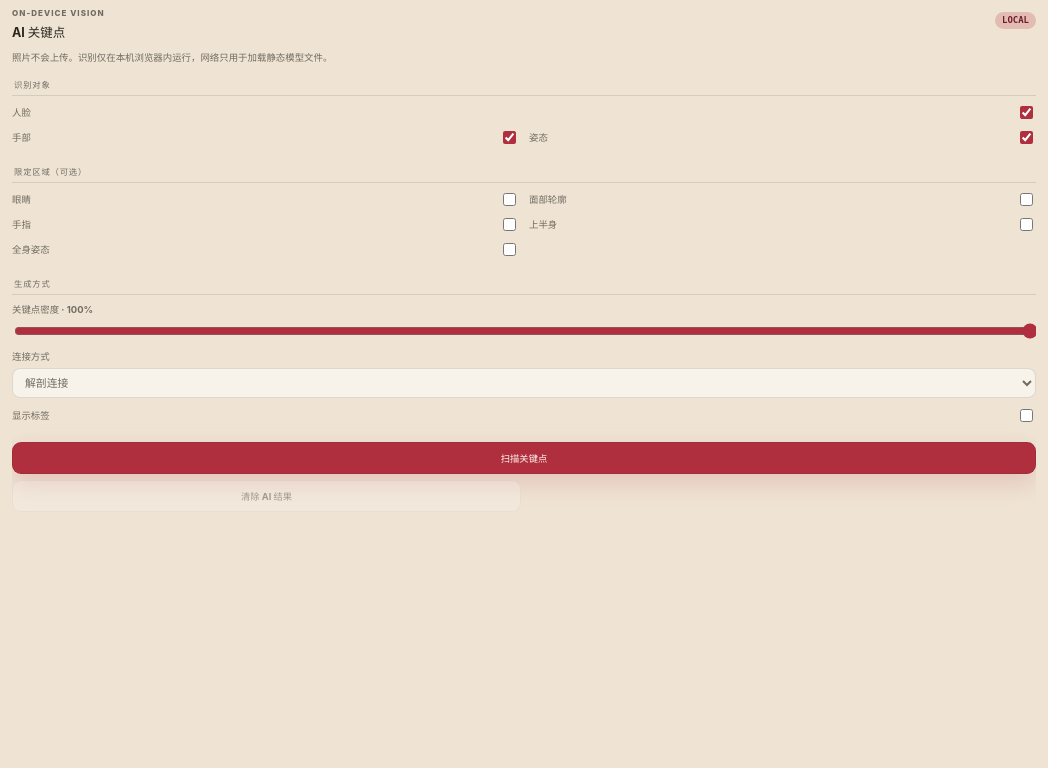
Scenario: AI scan panel › lets the user cancel a loading scan and retry successfully
Click the button "扫描关键点".
click(524, 458)  # box [12, 442, 1036, 474]
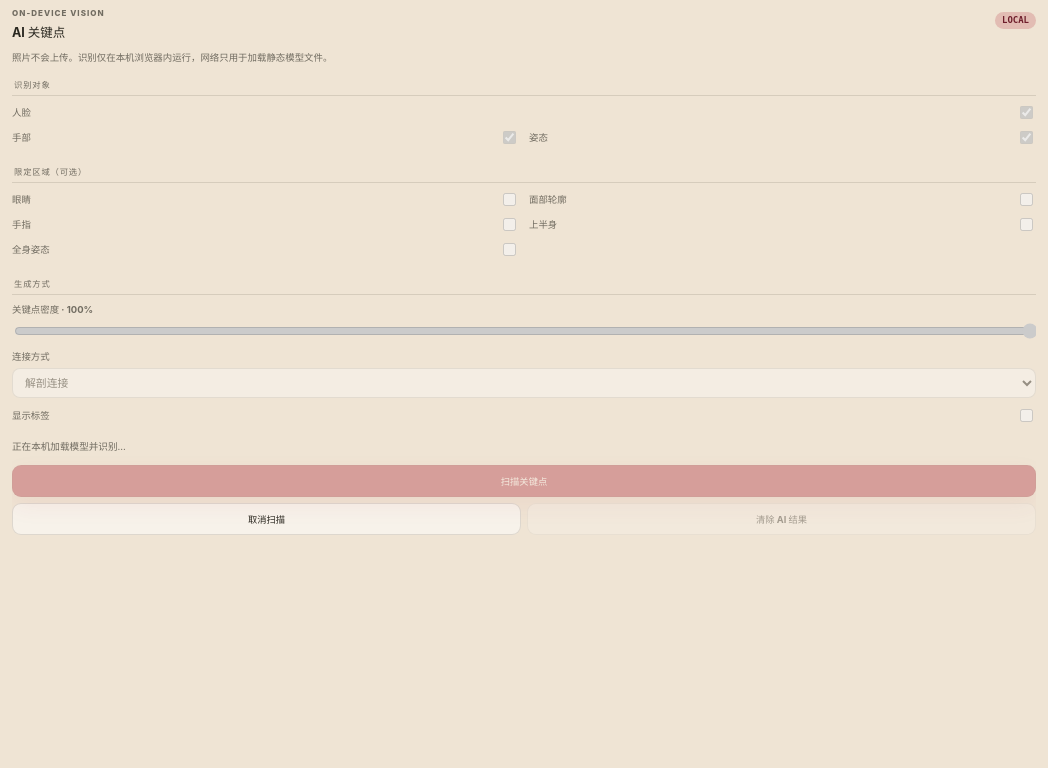
Now the button "取消扫描" is enabled
Click the button "取消扫描".
click(266, 519)  # box [12, 503, 521, 535]
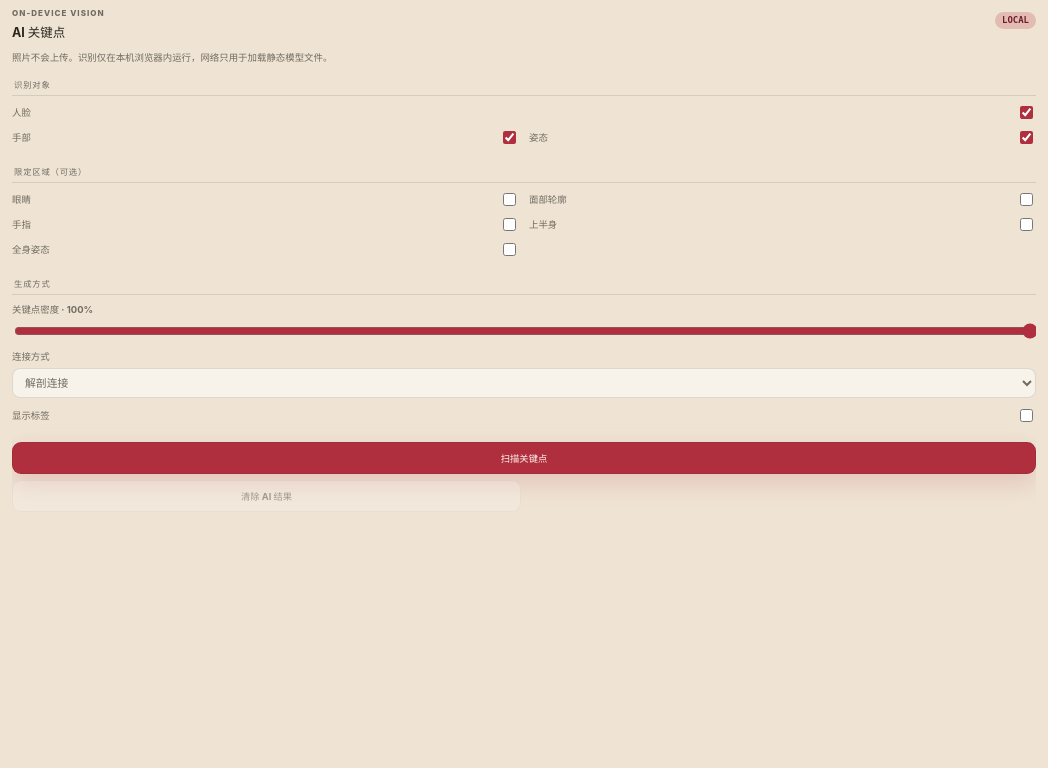
Now the text "正在本机加载" is gone
Now the button "扫描关键点" is enabled
Click the button "扫描关键点".
click(524, 458)  # box [12, 442, 1036, 474]
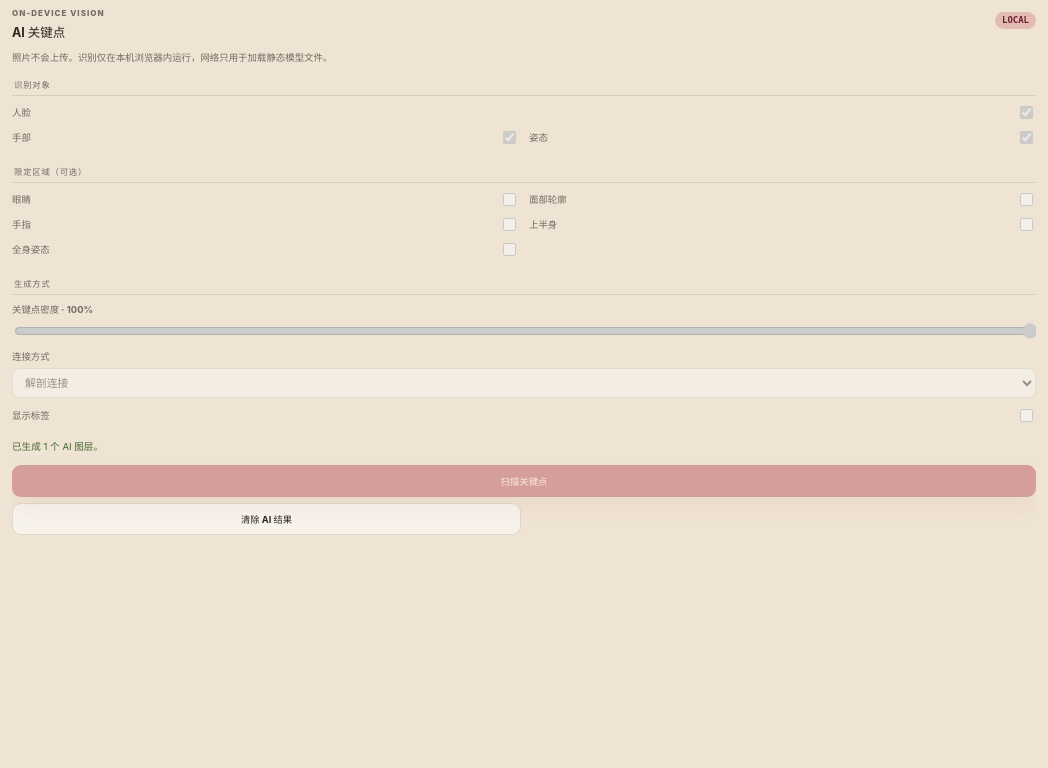
Now the text "已生成 1 个 AI 图层。" is shown, box [12, 441, 103, 452]
